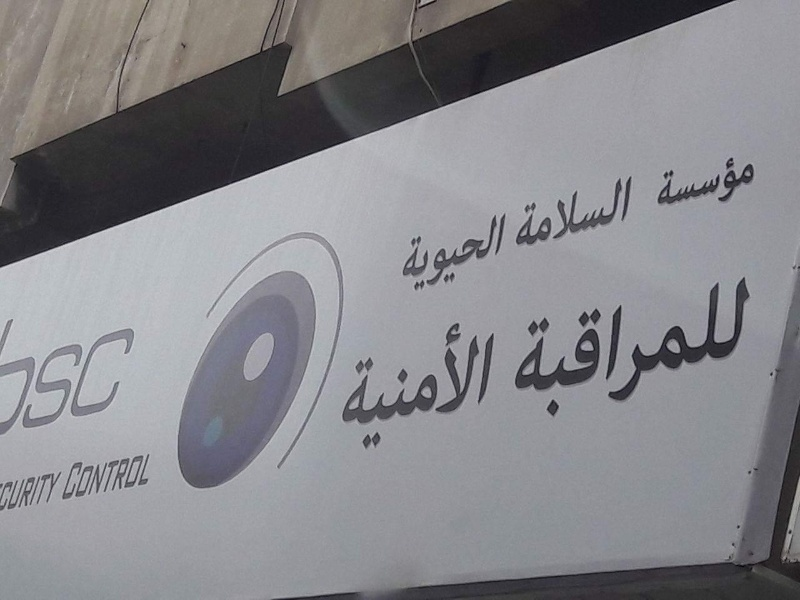text: (513, 275, 528, 426), (529, 275, 544, 426), (545, 275, 560, 426), (561, 275, 576, 426), (577, 275, 592, 426), (593, 275, 608, 426), (609, 275, 624, 426), (625, 275, 640, 426), (641, 275, 656, 426), (657, 275, 672, 426), (673, 275, 688, 426), (689, 275, 704, 426), (705, 275, 720, 426), (721, 275, 736, 426), (353, 310, 368, 461), (369, 310, 384, 461), (385, 310, 400, 461), (401, 310, 416, 461), (417, 310, 432, 461), (433, 310, 448, 461), (449, 310, 464, 461), (465, 310, 480, 461), (481, 310, 496, 461), (737, 275, 751, 426), (17, 315, 32, 442), (33, 315, 48, 442), (49, 315, 64, 442), (65, 315, 80, 442), (81, 315, 96, 442), (97, 315, 112, 442), (113, 315, 128, 442), (2, 315, 16, 442), (129, 315, 143, 442), (401, 210, 416, 304), (417, 210, 432, 304), (433, 210, 448, 304), (449, 210, 464, 304), (465, 210, 480, 304), (481, 210, 496, 304), (513, 174, 528, 252), (529, 174, 544, 252), (545, 174, 560, 252), (561, 174, 576, 252), (577, 174, 592, 252), (593, 174, 608, 252), (609, 174, 624, 252), (497, 210, 508, 304), (673, 152, 688, 217), (689, 152, 704, 217), (705, 152, 720, 217), (721, 152, 736, 217), (737, 152, 752, 217), (49, 466, 65, 516), (625, 174, 635, 252), (81, 452, 96, 502), (97, 452, 112, 502), (113, 452, 128, 502), (129, 452, 144, 502), (17, 466, 32, 516), (33, 466, 48, 516), (661, 152, 672, 217), (2, 466, 16, 516), (349, 310, 352, 461), (71, 452, 80, 502), (396, 210, 400, 304), (510, 275, 512, 426), (497, 310, 499, 461), (145, 452, 151, 502), (753, 152, 756, 217)
